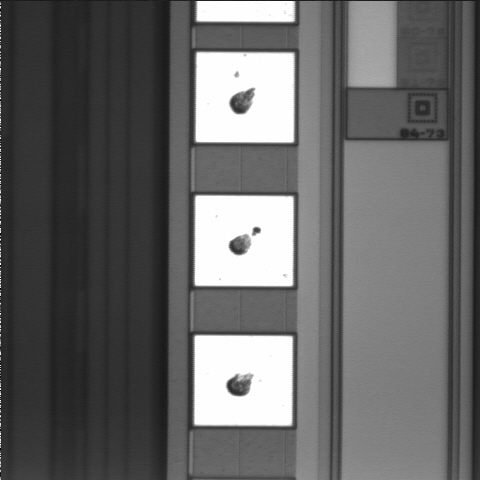pad: (194, 335, 293, 426), (196, 52, 294, 142), (195, 196, 293, 286)
